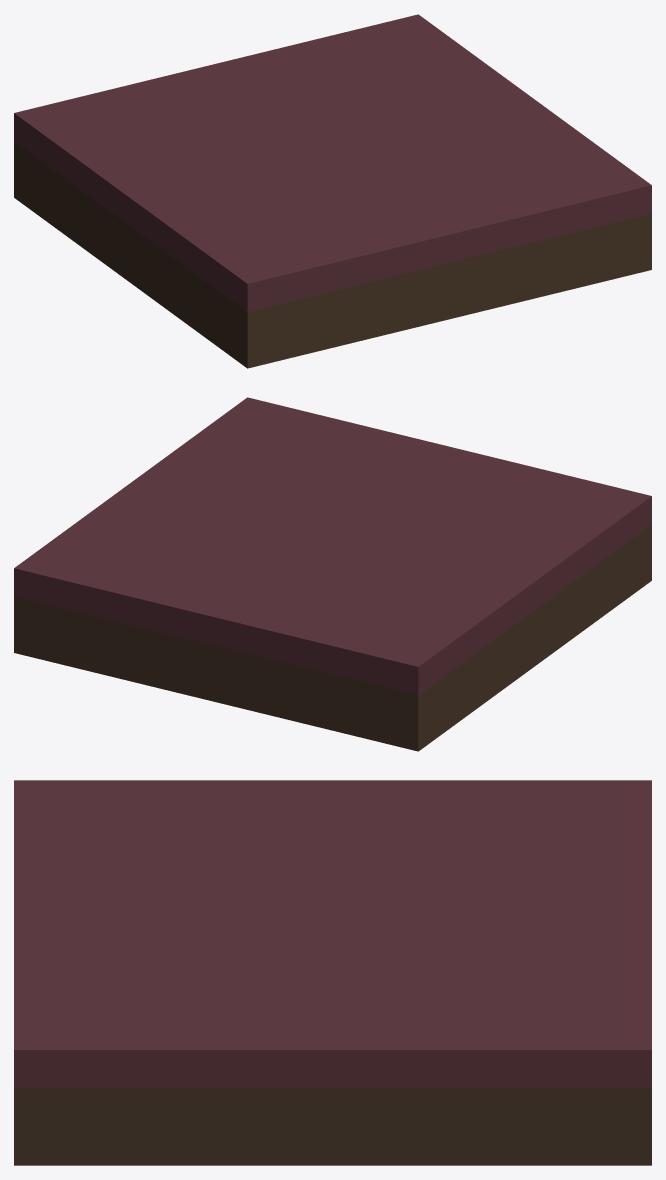
File: tiles-tile-sidewalk-end.glb
The picture shows the model from 3 angles, top to bottom: view 1: azimuth 30°, elevation 25°; view 2: azimuth 150°, elevation 25°; view 3: azimuth 270°, elevation 25°; orthographic projection. The views are drawn at different scales.
Visible parts, largest first — view 1: tile-sidewalk-end; view 2: tile-sidewalk-end; view 3: tile-sidewalk-end.
Part boxes in pixels (x1,y1,x2,y2): tile-sidewalk-end: (14,14,651,368); tile-sidewalk-end: (14,397,651,751); tile-sidewalk-end: (14,780,651,1165).
Bounding box in the file's own units: 30 × 6 × 30.
